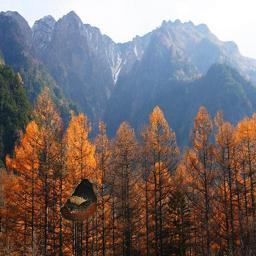Swallow: (60, 179, 97, 222)
